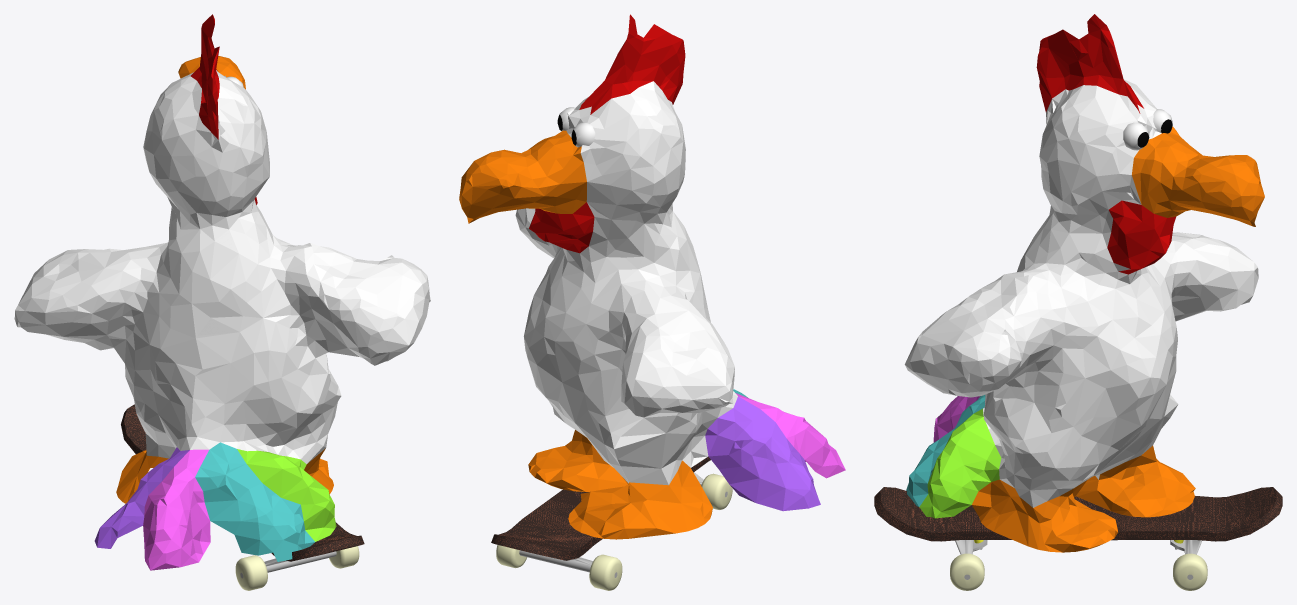
File: gueggel.dae
The picture shows the model from 3 angles, left to right: view 1: azimuth 30°, elevation 25°; view 2: azimuth 150°, elevation 25°; view 3: azimuth 270°, elevation 25°; orthographic projection. The views are drawn at different scales.
Visible parts, largest first — view 1: Gueggel (×9), group_1, Circle; view 2: Gueggel (×8), group_1, Circle (×3), Circle_1; view 3: Gueggel (×9), group_1, Circle (×2).
Part boxes in pixels (left/top/right/bottom): Gueggel (×9): left=14, top=14, right=430, bottom=570; group_1: left=121, top=404, right=364, bottom=561; Circle: left=235, top=555, right=267, bottom=590; Gueggel (×8): left=459, top=14, right=845, bottom=539; group_1: left=491, top=456, right=710, bottom=560; Circle (×3): left=496, top=473, right=732, bottom=590; Circle_1: left=519, top=550, right=592, bottom=572; Gueggel (×9): left=904, top=14, right=1264, bottom=552; group_1: left=874, top=487, right=1282, bottom=541; Circle (×2): left=950, top=553, right=1207, bottom=590.
Bounding box in the file's own units: 149 × 164 × 240.
